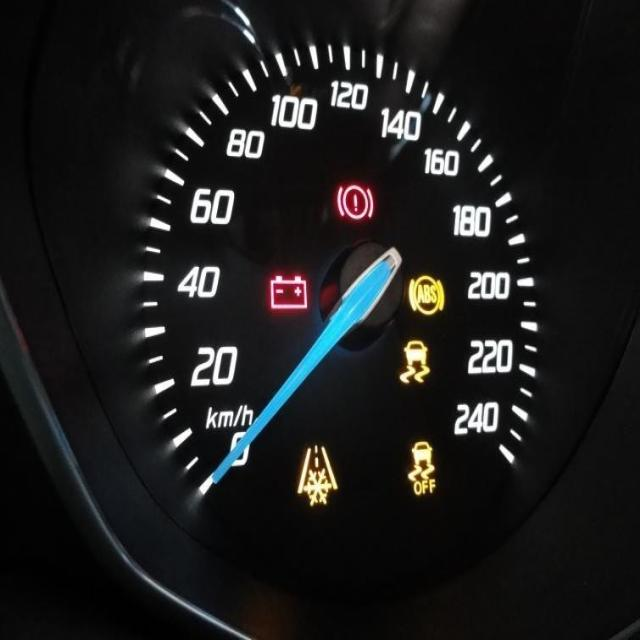kontrolka: (288, 436, 344, 512), (401, 436, 444, 503), (332, 173, 380, 227), (265, 265, 314, 317), (403, 270, 450, 322), (394, 334, 436, 390)
